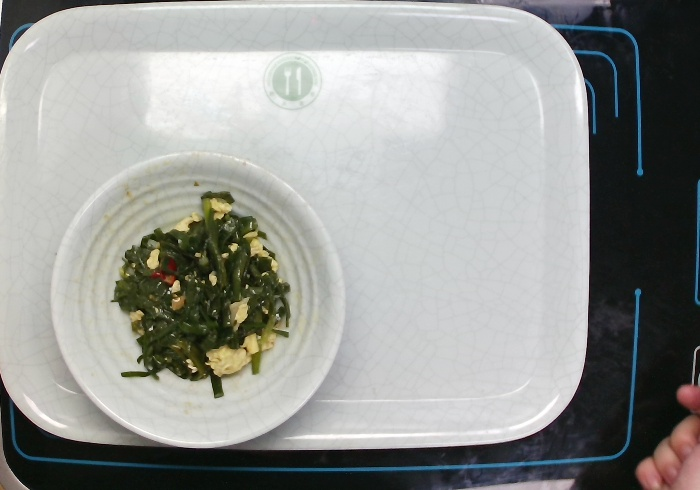JYsf-Xiao_Tang_Wan: (43, 144, 352, 452)
